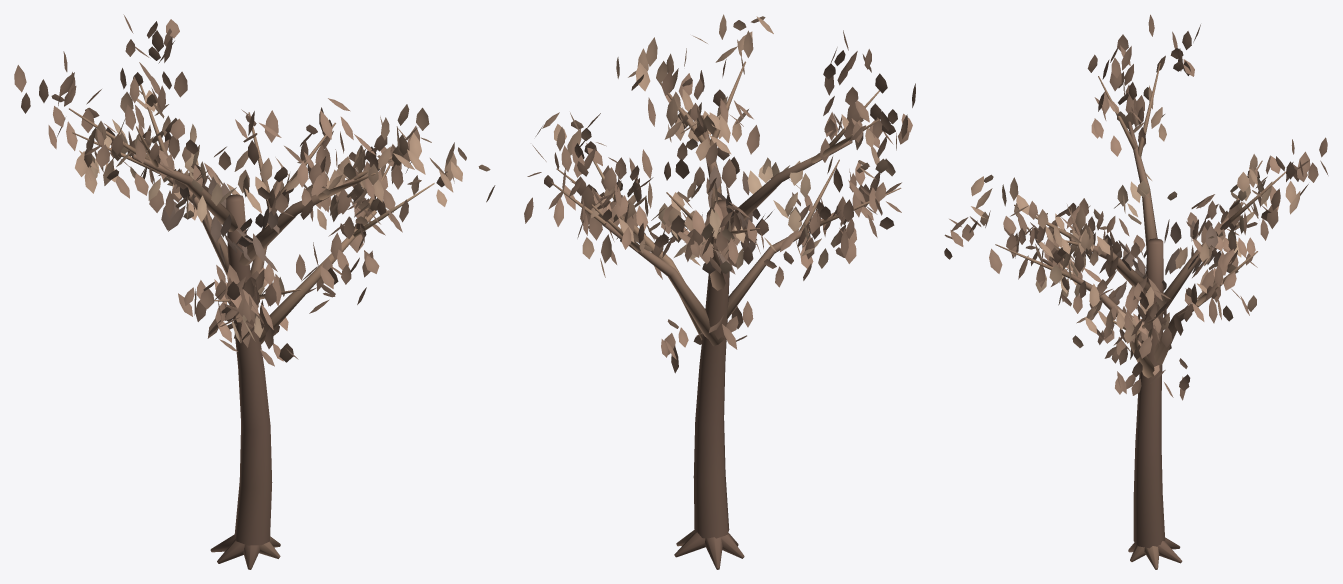
File: tree_3d_01_copper.glb
3 renders of one model, left to right at view 1: azimuth 30°, elevation 25°; view 2: azimuth 150°, elevation 25°; view 3: azimuth 270°, elevation 25°, orthographic. The views are drawn at different scales.
Visible parts, largest first — view 1: tree_3d_01_copper_foliage, tree_3d_01_copper_wood; view 2: tree_3d_01_copper_foliage, tree_3d_01_copper_wood; view 3: tree_3d_01_copper_foliage, tree_3d_01_copper_wood.
Part boxes in pixels (x1,y1,x2,y2): tree_3d_01_copper_foliage: [14, 14, 495, 366]; tree_3d_01_copper_wood: [69, 84, 434, 569]; tree_3d_01_copper_foliage: [524, 14, 915, 373]; tree_3d_01_copper_wood: [551, 61, 901, 569]; tree_3d_01_copper_foliage: [944, 14, 1328, 400]; tree_3d_01_copper_wood: [995, 63, 1286, 569].
Bounding box in the file's own units: 9.03 × 11.08 × 8.33.
